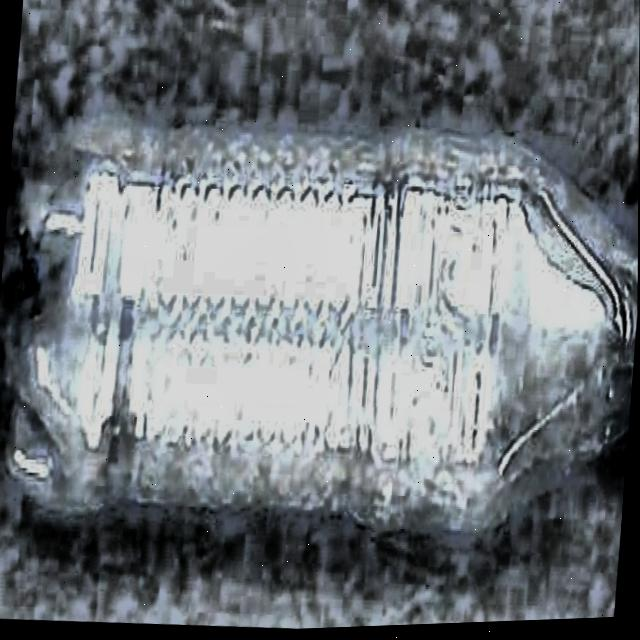plastic: (0, 76, 639, 578)
